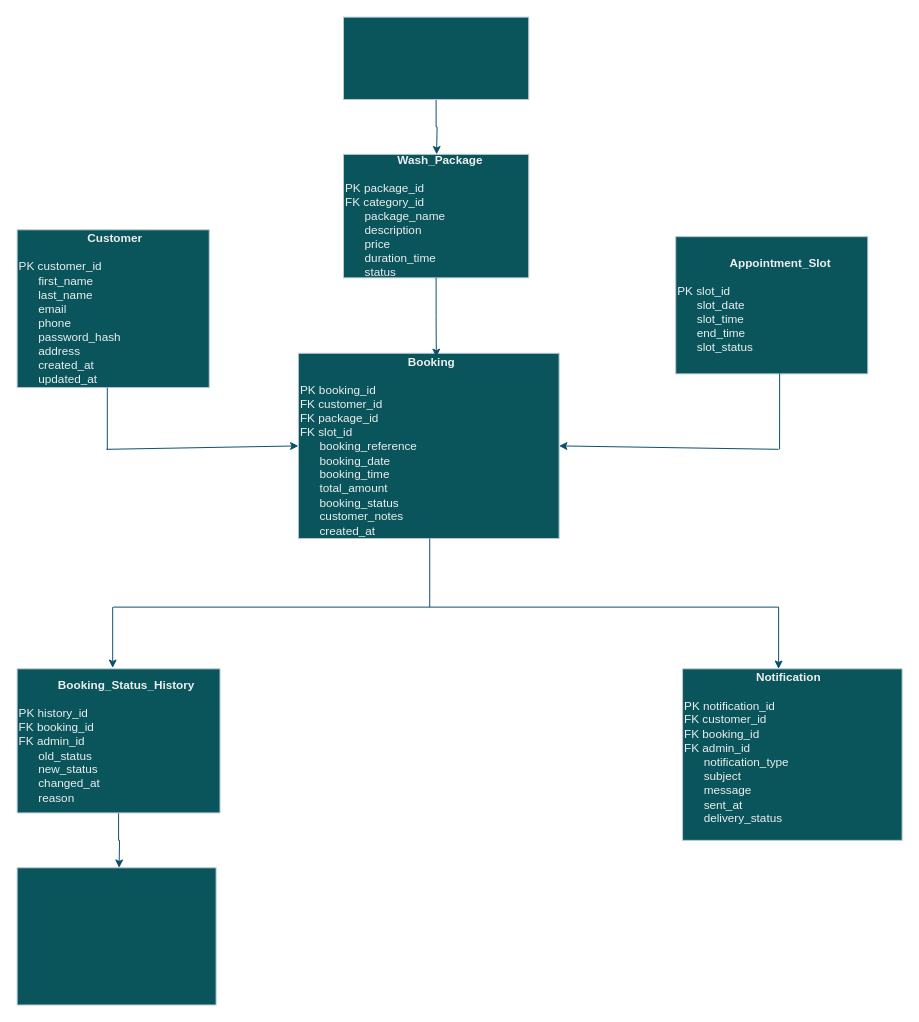
The diagram is 919 pixels wide and 1022 high, and some of its shapes have lost their labels. Here are the shapes that lost their labels. From the top down, the box of each, then its label:
(343, 16, 529, 99): Service_Category PK category_id category_name description
(16, 867, 216, 1005): Admin PK admin_id first_name last_name email password_hash role created_at
